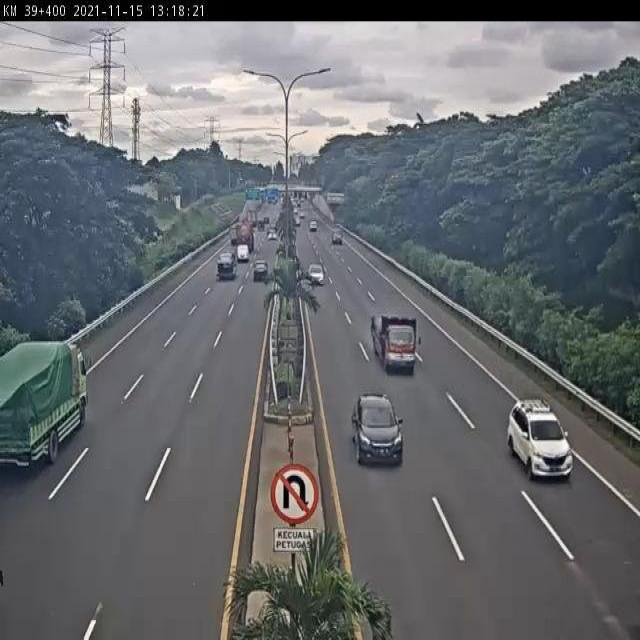car: (509, 395, 575, 481), (349, 391, 402, 466)
truck-m-: (0, 340, 91, 469), (370, 311, 419, 373)
